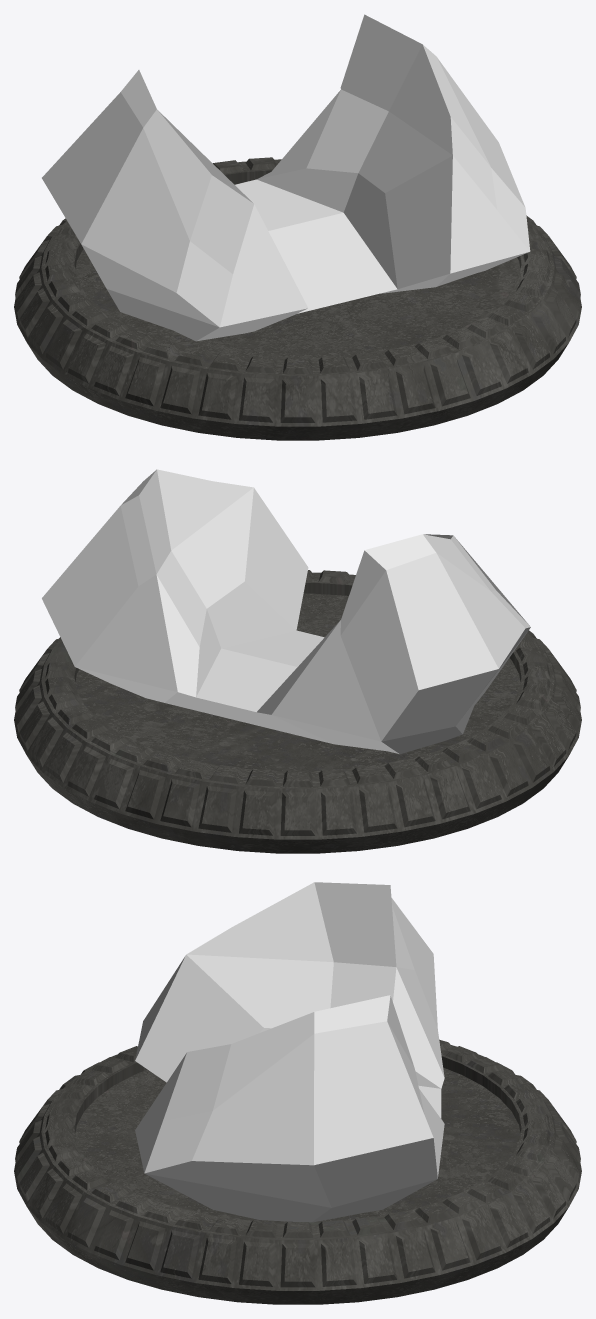
Rendered from TurretPivot.fbx.
3 renders of one model, top to bottom at view 1: azimuth 30°, elevation 25°; view 2: azimuth 150°, elevation 25°; view 3: azimuth 270°, elevation 25°, orthographic.
Visible parts, largest first — view 1: Turrentbaseupper, Turrent-base; view 2: Turrentbaseupper, Turrent-base; view 3: Turrentbaseupper, Turrent-base.
Part boxes in pixels (x1,y1,x2,y2): Turrentbaseupper: (42, 14, 530, 341); Turrent-base: (14, 157, 581, 440); Turrentbaseupper: (42, 469, 530, 754); Turrent-base: (14, 570, 581, 853); Turrentbaseupper: (135, 882, 444, 1222); Turrent-base: (14, 1039, 581, 1304).
Size of the model in its own units: 3.06 by 3.07 by 1.49.
2 materials, 1 textured.
